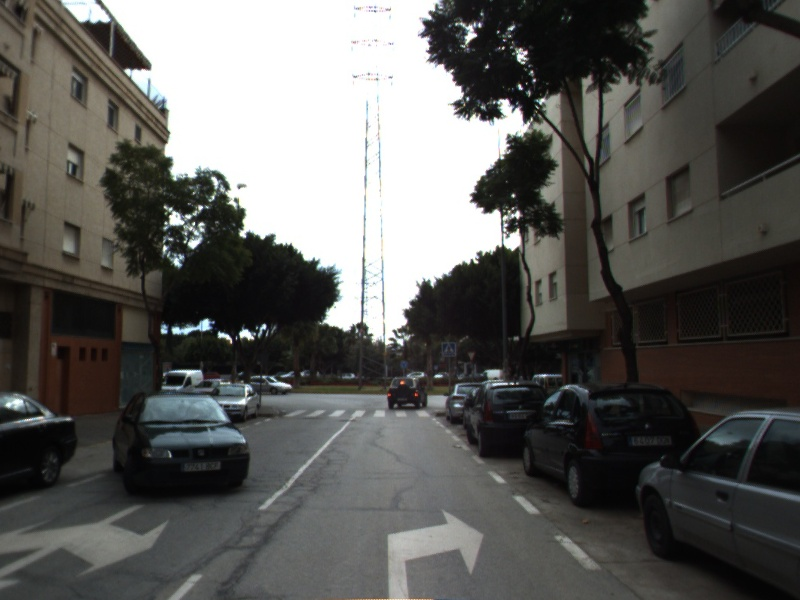RIGHT: (383, 505, 488, 600)
